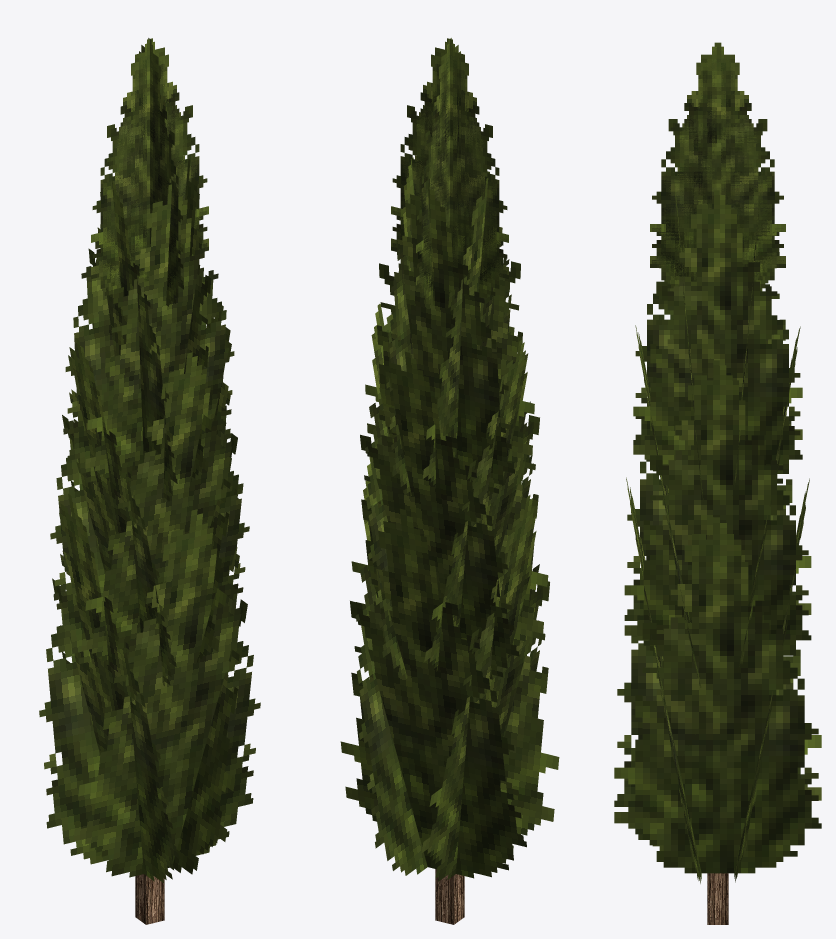
File: cypress_large.obj
3 views of the same model, side by side, from view 1: azimuth 30°, elevation 25°; view 2: azimuth 150°, elevation 25°; view 3: azimuth 270°, elevation 25° (orthographic).
Parts seen in each view (by area): view 1: Leaves.015, Leaves.019, Leaves.023, Leaves.016, Leaves.026, Leaves.020, Leaves.014, Leaves.017, Leaves.046, Leaves.024, Leaves.022, Leaves.027 (+5 smaller); view 2: Leaves.014, Leaves.018, Leaves.022, Leaves.016, Leaves.026, Leaves.046, Leaves.017, Leaves.020, Leaves.015, Leaves.024, Leaves.047, Leaves.021 (+5 smaller); view 3: Leaves.017, Leaves.021, Leaves.025, Leaves.027, Leaves.047, Leaves.016, Leaves.020, Leaves.024, Leaves.015, Leaves.014, Trunk.002, Leaves.019 (+2 smaller).
Boxes of the visible parts, <box> form: Leaves.015: <box>73,509,260,877</box>; Leaves.019: <box>81,352,249,672</box>; Leaves.023: <box>85,184,234,499</box>; Leaves.016: <box>52,494,179,882</box>; Leaves.026: <box>91,38,208,287</box>; Leaves.020: <box>62,338,176,685</box>; Leaves.014: <box>39,586,113,864</box>; Leaves.017: <box>173,457,247,874</box>; Leaves.046: <box>91,38,208,297</box>; Leaves.024: <box>88,178,177,501</box>; Leaves.022: <box>65,176,114,485</box>; Leaves.027: <box>139,38,183,306</box>; Leaves.014: <box>340,508,526,878</box>; Leaves.018: <box>351,351,519,679</box>; Leaves.022: <box>365,184,514,495</box>; Leaves.016: <box>421,495,541,881</box>; Leaves.026: <box>391,38,508,296</box>; Leaves.046: <box>391,38,508,297</box>; Leaves.017: <box>355,457,427,875</box>; Leaves.020: <box>424,339,533,671</box>; Leaves.015: <box>499,481,559,863</box>; Leaves.024: <box>423,178,511,487</box>; Leaves.047: <box>416,38,460,306</box>; Leaves.021: <box>365,303,407,678</box>; Leaves.017: <box>614,517,821,873</box>; Leaves.021: <box>624,360,811,667</box>; Leaves.025: <box>633,190,802,488</box>; Leaves.027: <box>650,42,785,288</box>; Leaves.047: <box>650,42,785,291</box>; Leaves.016: <box>614,635,821,850</box>; Leaves.020: <box>624,459,811,650</box>; Leaves.024: <box>633,252,802,471</box>; Leaves.015: <box>626,477,701,883</box>; Leaves.014: <box>734,478,809,882</box>; Trunk.002: <box>707,873,728,924</box>; Leaves.019: <box>635,325,701,687</box>.
Bounding box in the file's own units: 1.96 × 9.17 × 1.96.
